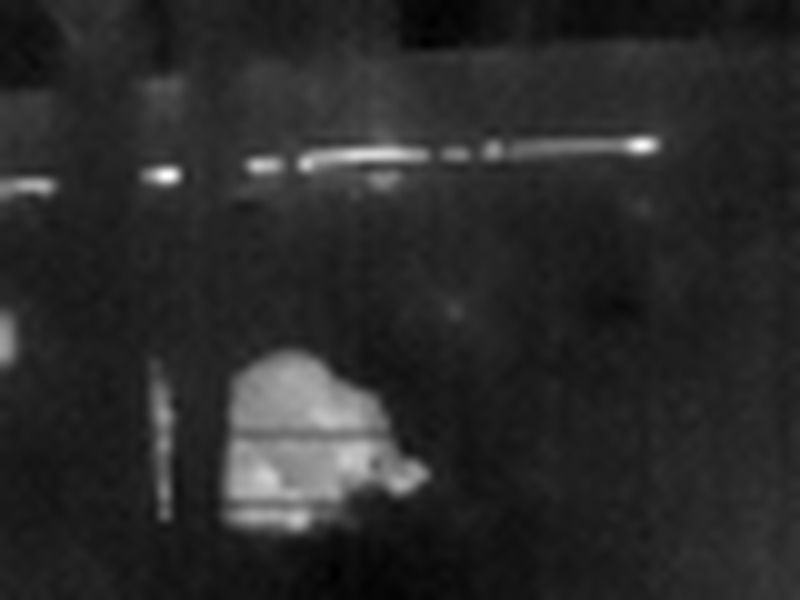elephant: (124, 340, 445, 569)
